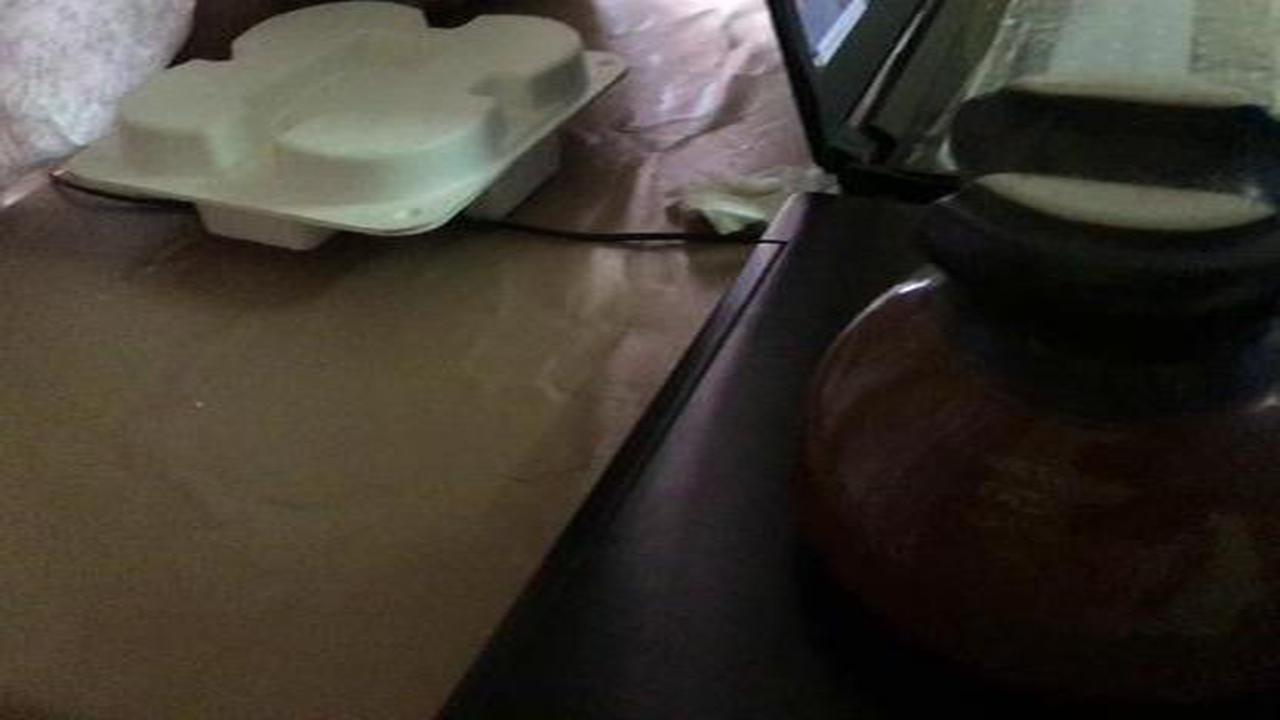insulator_pin: (782, 59, 1274, 689)
